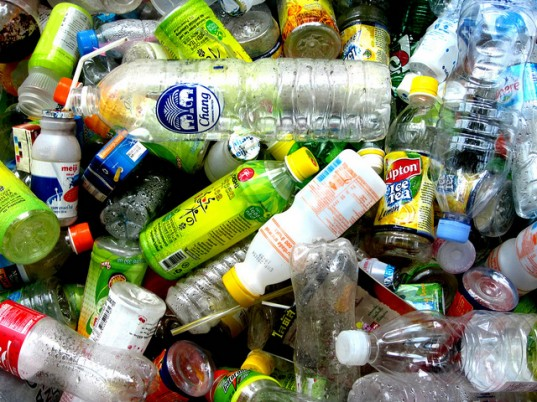plastic_bottle: (189, 99, 474, 353), (95, 122, 391, 345), (51, 49, 429, 192), (122, 134, 421, 296), (407, 1, 532, 285), (350, 20, 477, 294), (261, 226, 453, 402), (163, 100, 366, 236), (15, 56, 140, 274), (1, 261, 194, 402), (375, 84, 537, 241), (314, 287, 513, 384), (1, 106, 97, 294), (291, 327, 483, 402), (192, 329, 329, 402)
